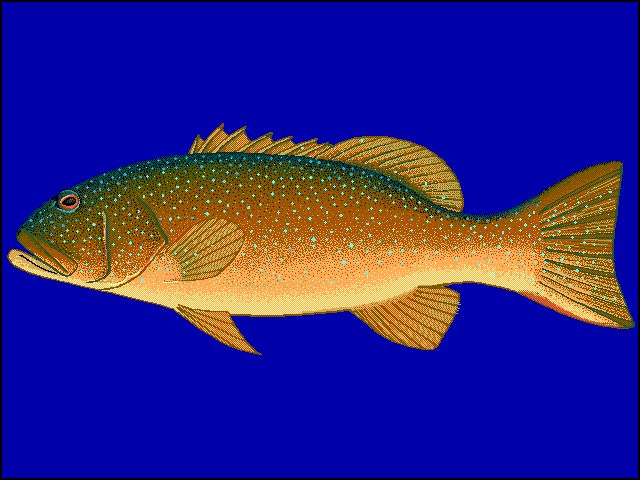fish: (7, 122, 636, 358)
